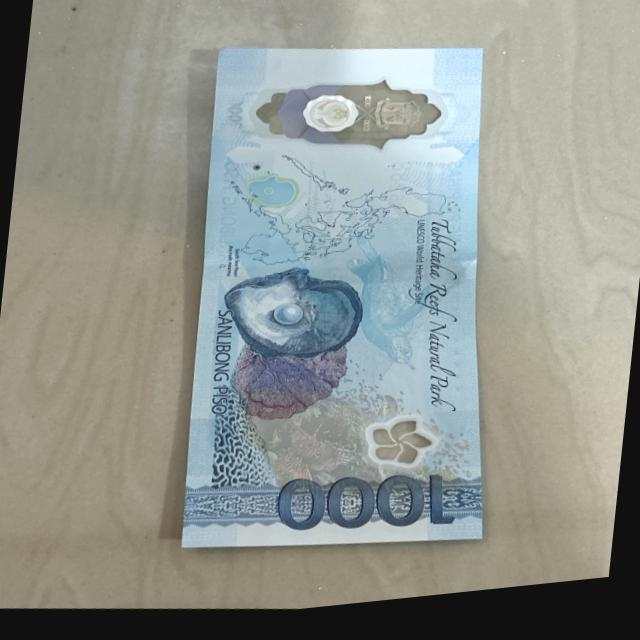clear_window: (235, 66, 448, 181)
sampaguita: (368, 413, 433, 483)
value: (273, 467, 462, 552)
